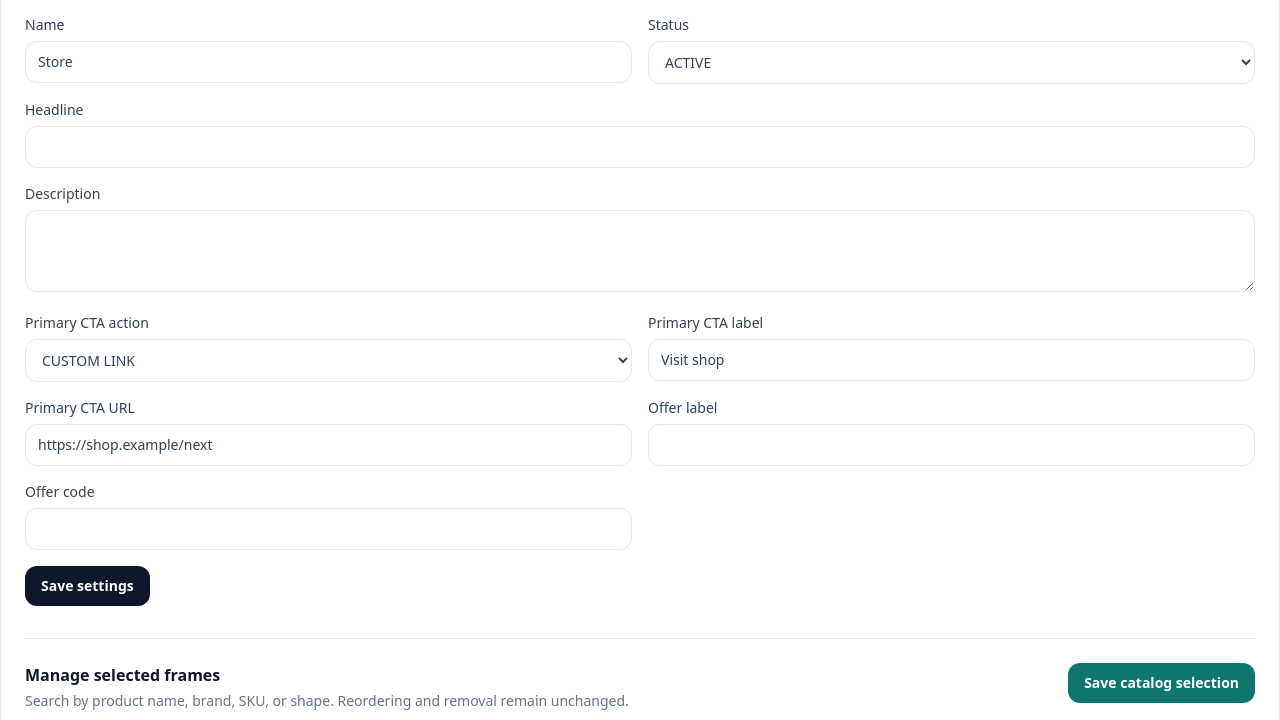
Test: Experience Admin Merchant Handoff editor › saves the selected canonical action and removes CTA fields when action is cleared
The width and height of the screenshot is (1280, 720).
(page scrolled)
Select "PRODUCT" in the dropdown labelled "Primary CTA action": x=328, y=360 [25,339,632,382]
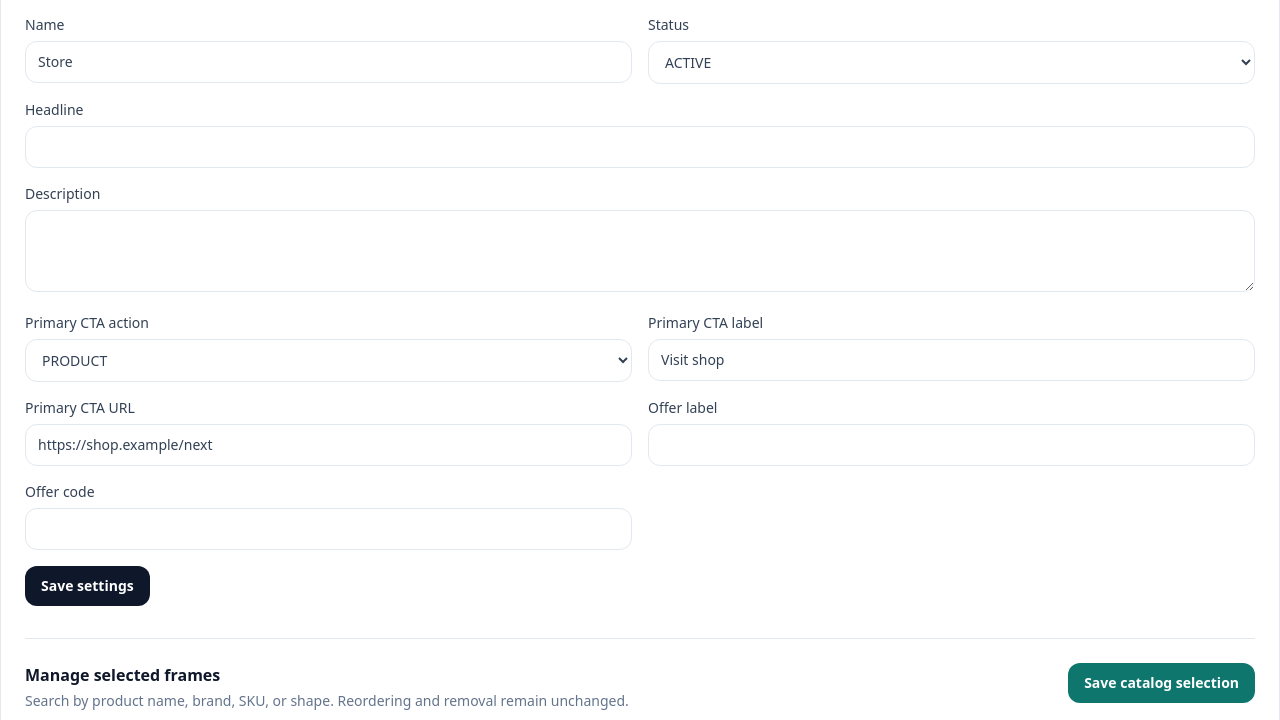
Click the button "Save settings": x=87, y=586 [25,566,150,606]
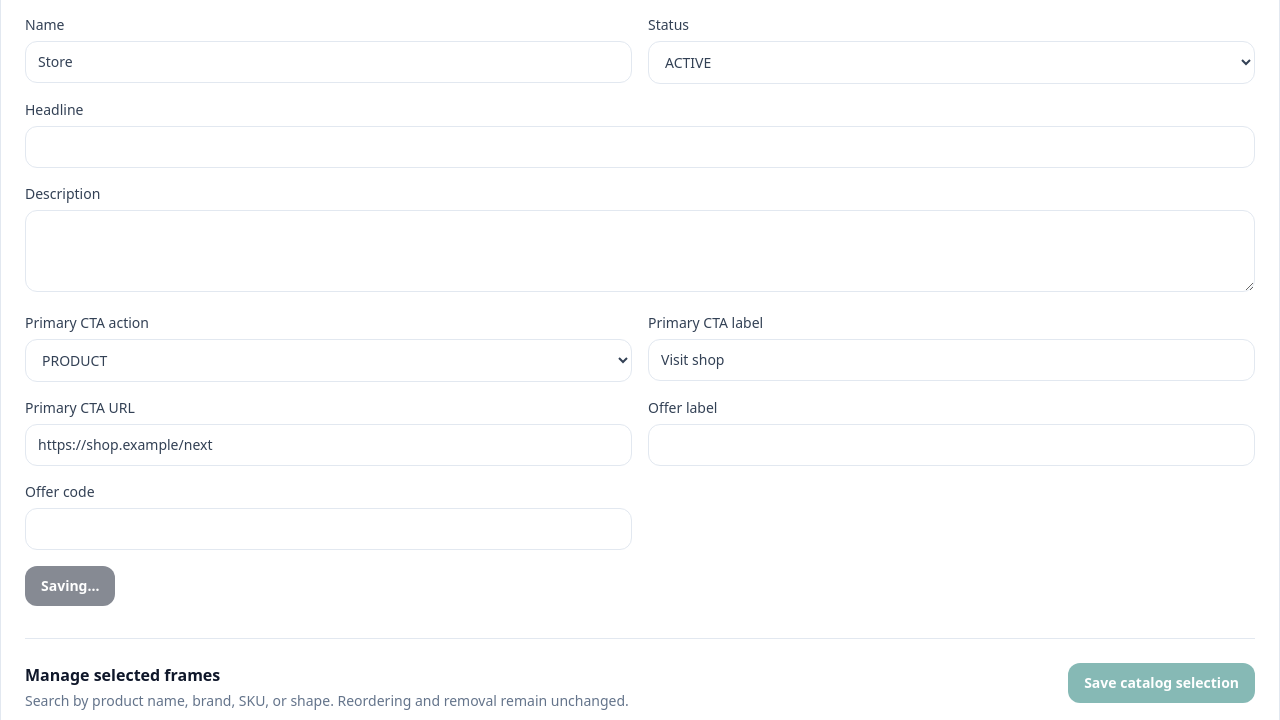
Select "Remove CTA" in the dropdown labelled "Primary CTA action": x=328, y=360 [25,339,632,382]
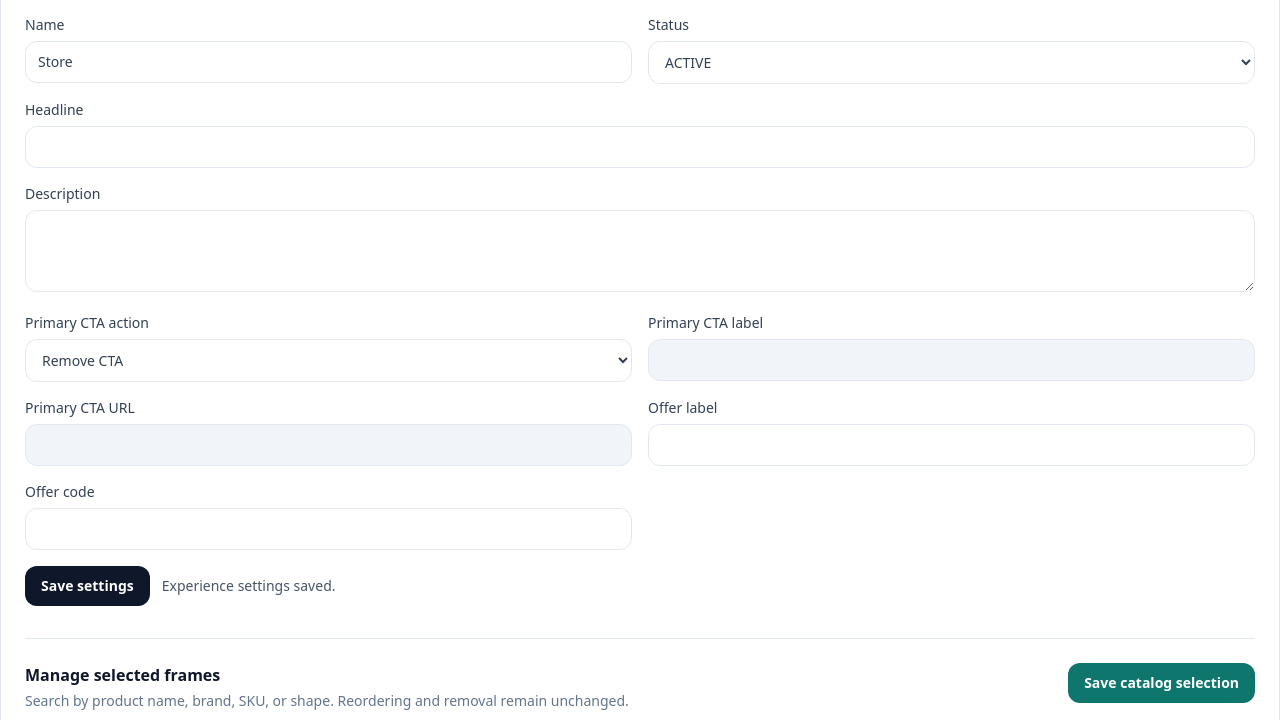
Check: the field labelled "Primary CTA label" is disabled, box [648,339,1255,381]
Check: the field labelled "Primary CTA label" is empty, box [648,339,1255,381]
